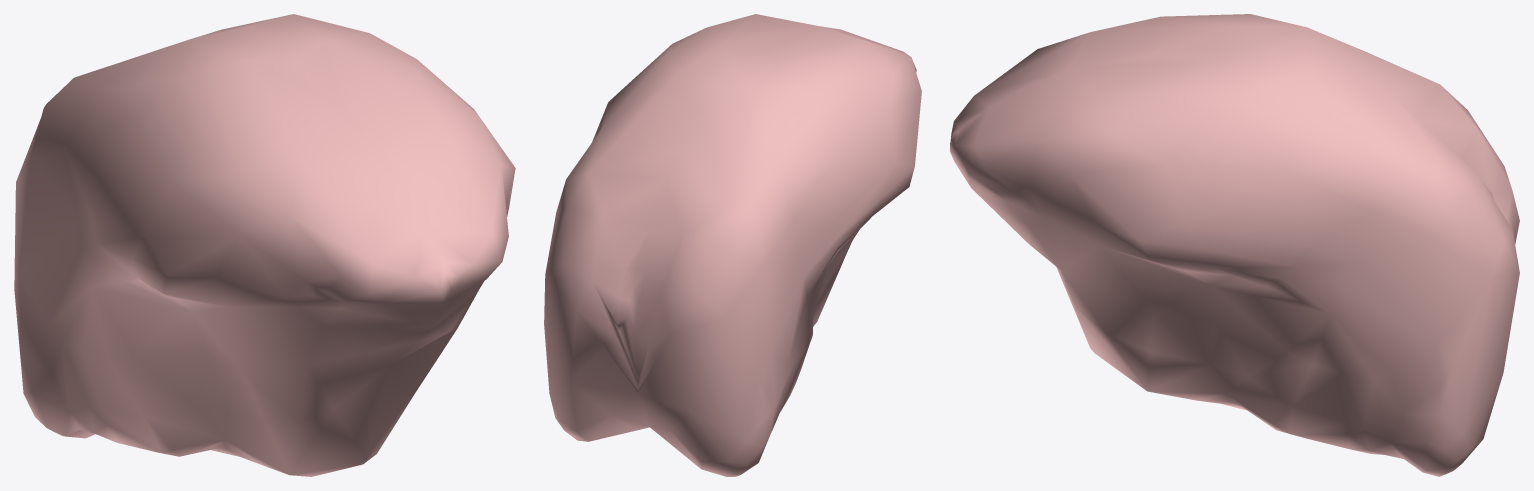
File: cavo-orale-test.glb
3 views of the same model, side by side, from view 1: azimuth 30°, elevation 25°; view 2: azimuth 150°, elevation 25°; view 3: azimuth 270°, elevation 25° (orthographic). The views are drawn at different scales.
Visible parts, largest first — view 1: Tongue; view 2: Tongue; view 3: Tongue.
Part boxes in pixels (x1,y1,x2,y2): Tongue: (14, 14, 515, 476); Tongue: (544, 14, 921, 476); Tongue: (950, 14, 1519, 476).
Size of the model in its own units: 0.0337 by 0.0426 by 0.0563.
